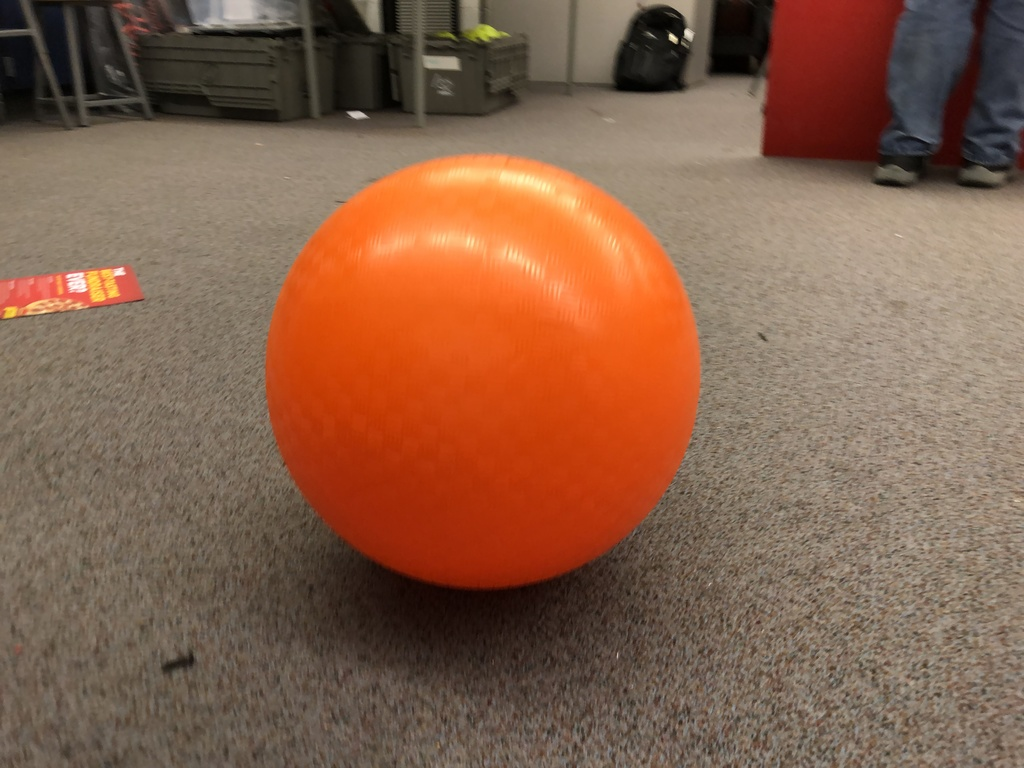cargo: (248, 144, 720, 601)
